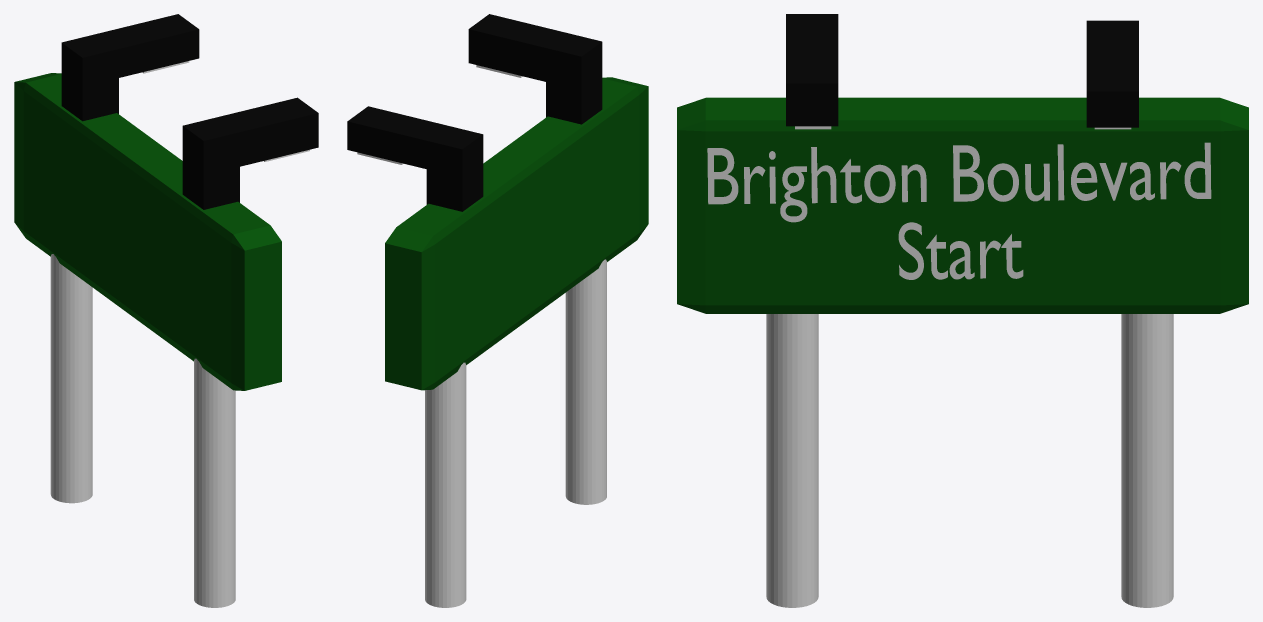
Rendered from UK_road_start_1.fbx.
The picture shows the model from 3 angles, left to right: view 1: azimuth 30°, elevation 25°; view 2: azimuth 150°, elevation 25°; view 3: azimuth 270°, elevation 25°; orthographic projection. The views are drawn at different scales.
Visible parts, largest first — view 1: Cube, Cylinder.001, Cylinder, Cube.001, Cube.002; view 2: Cube, Cylinder.001, Cylinder, Cube.001, Cube.002; view 3: Cube, Cylinder, Cylinder.001, Text, Cube.001, Cube.002, Text.001.
Boxes of the visible parts, x1,y1,x2,y2 form: Cube: (14,73,281,390); Cylinder.001: (50,254,92,503); Cylinder: (194,358,235,607); Cube.001: (182,97,318,209); Cube.002: (61,14,199,121); Cube: (385,77,648,390); Cylinder.001: (425,362,466,607); Cylinder: (565,259,606,504); Cube.001: (468,14,602,124); Cube.002: (347,106,483,211); Cube: (677,97,1248,313); Cylinder: (766,314,818,607); Cylinder.001: (1121,314,1173,607); Text: (707,142,1211,222); Cube.001: (786,14,838,126); Cube.002: (1086,20,1138,127); Text.001: (898,222,1023,279).
Size of the model in its own units: 6.69 by 24.3 by 21.91.
